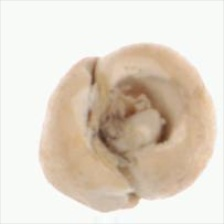L3: (84, 75, 174, 162)
L4: (38, 43, 217, 215)
